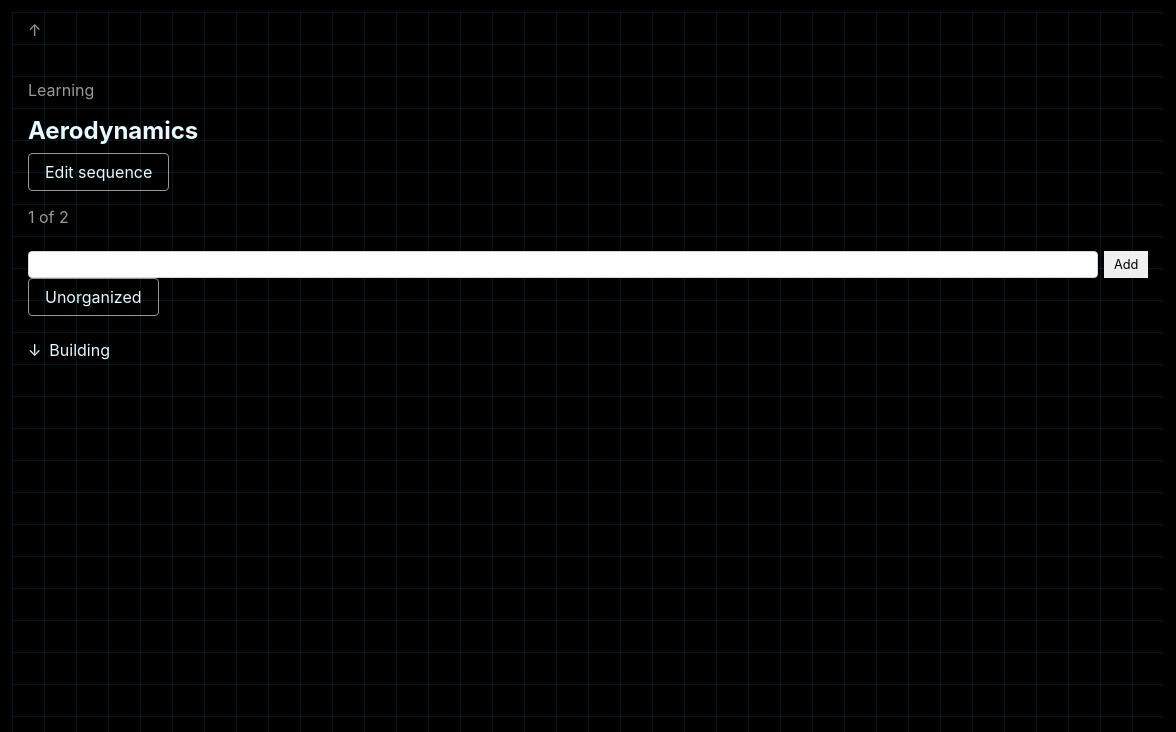
Test: PhoneProjectView › swiping left steps to the next sequence and remembers it
Press the mouse on the element that starts with "Learning" at (588, 190), box [12,12,1164,368]
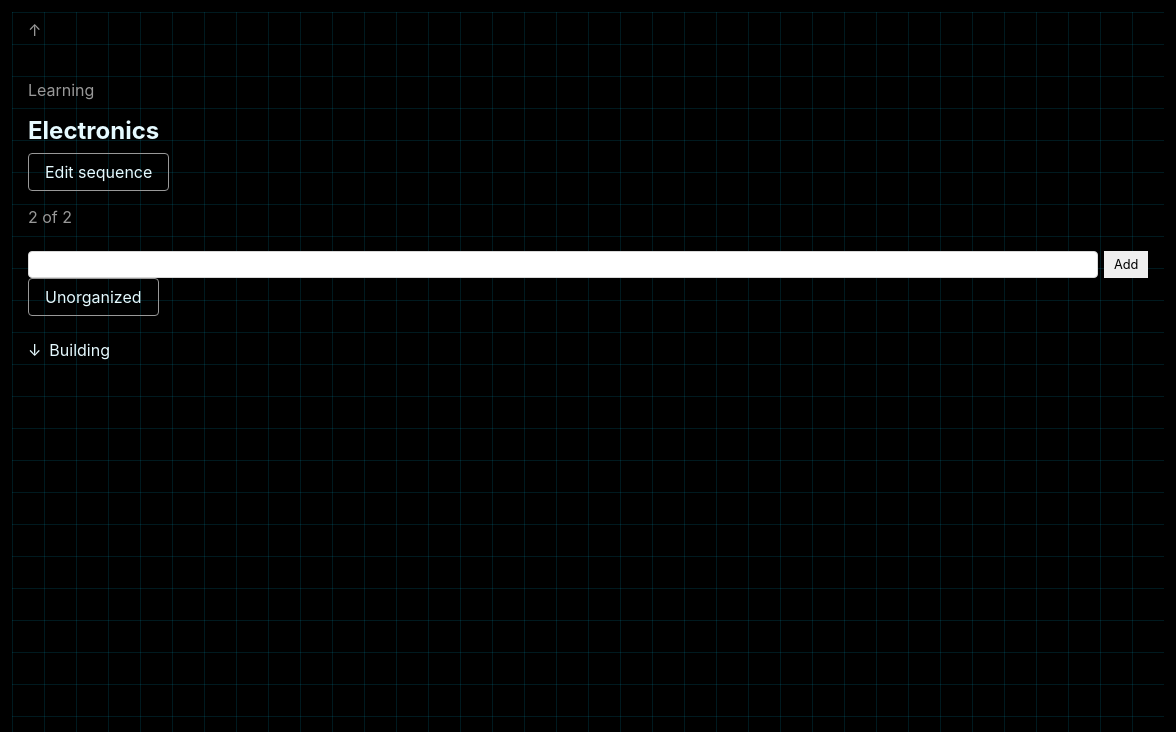
Expected: the heading "Electronics" is shown, [28,116,159,145]
